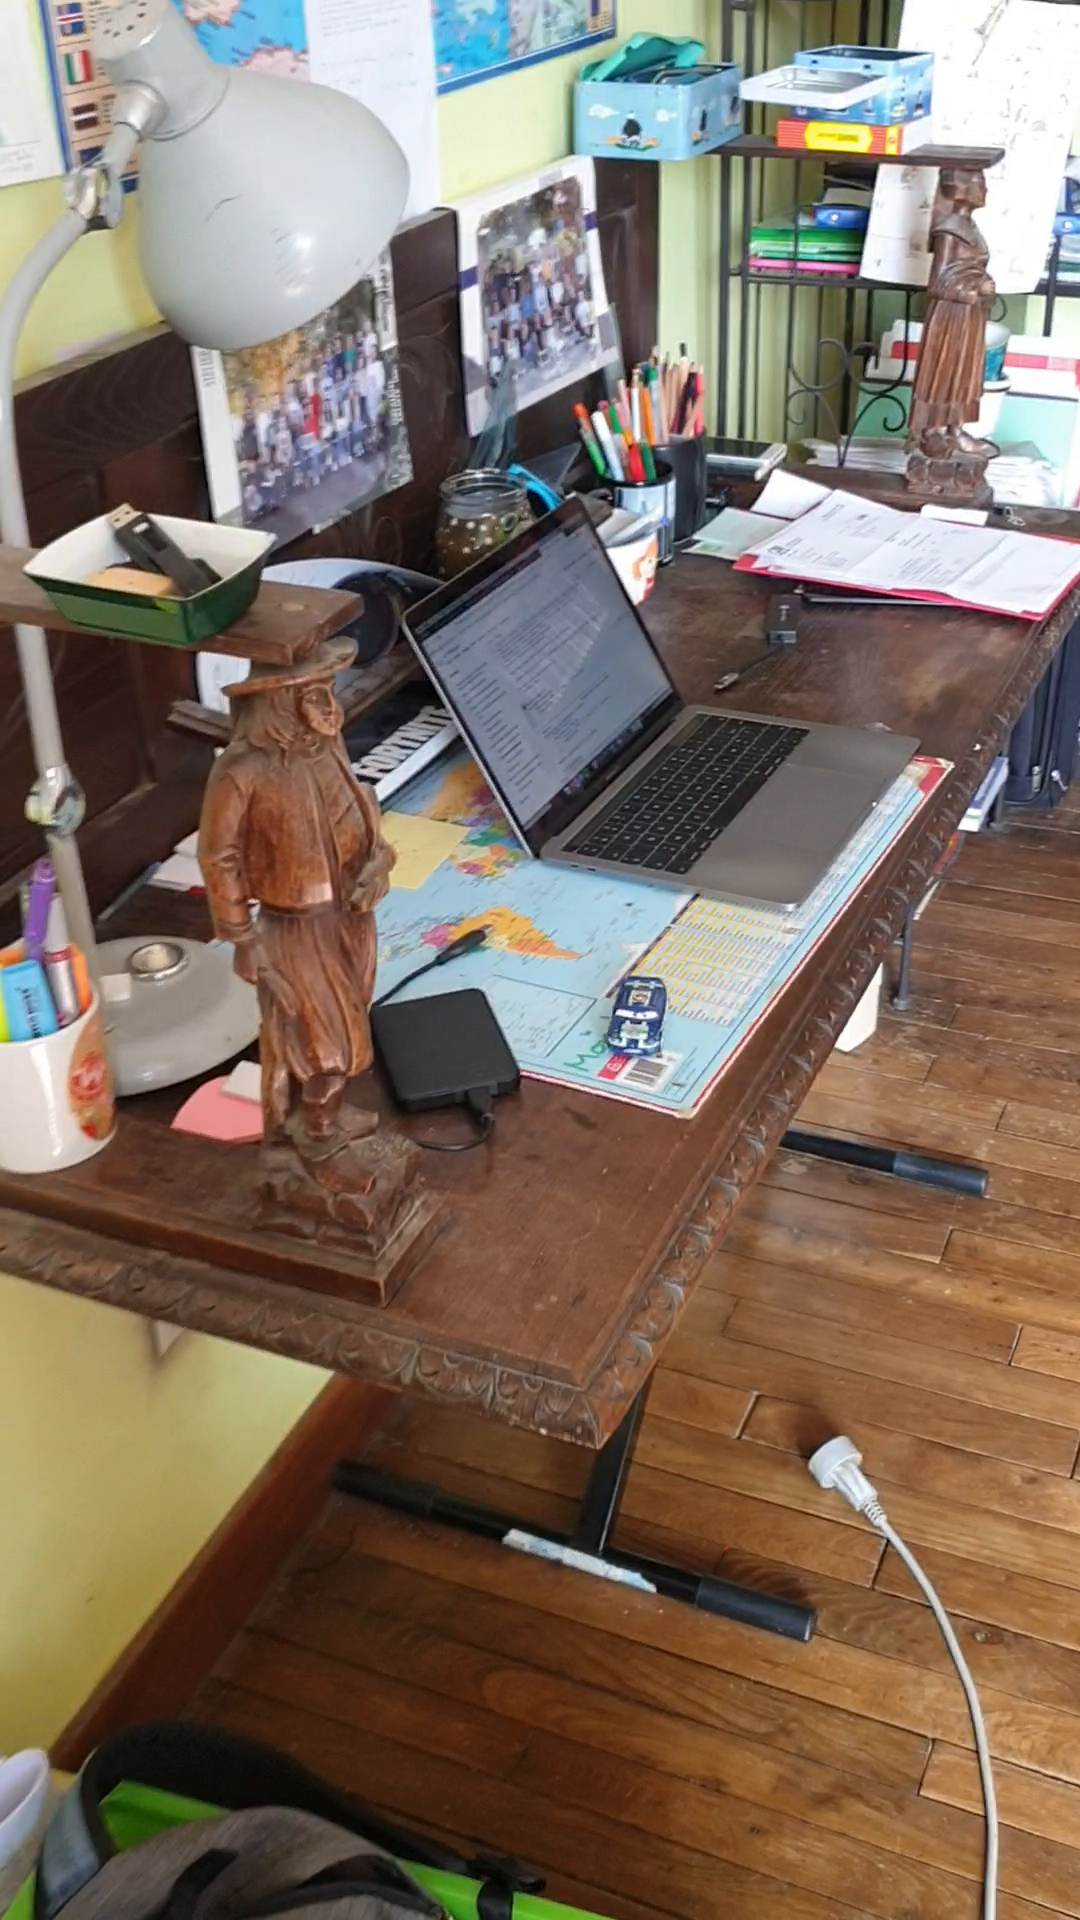cars: (605, 976, 667, 1058)
